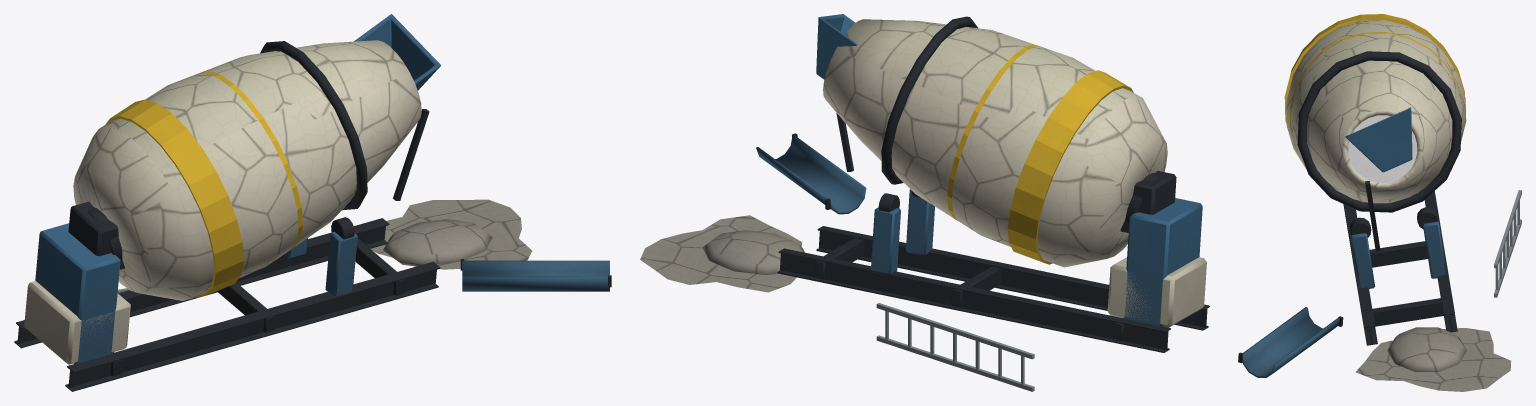
Rendered from cement_mixer_wreck.glb.
3 views of the same model, side by side, from view 1: azimuth 30°, elevation 25°; view 2: azimuth 150°, elevation 25°; view 3: azimuth 270°, elevation 25° (orthographic). The views are drawn at different scales.
Visible parts, largest first — view 1: cement_mixer_wreck; view 2: cement_mixer_wreck; view 3: cement_mixer_wreck.
Boxes of the visible parts, left/top/right/bottom form: cement_mixer_wreck: left=14, top=14, right=611, bottom=391; cement_mixer_wreck: left=640, top=14, right=1209, bottom=391; cement_mixer_wreck: left=1238, top=14, right=1521, bottom=391.
Bounding box in the file's own units: 6.45 × 3.32 × 3.51.
Materials: 8 (8 with a texture image).
